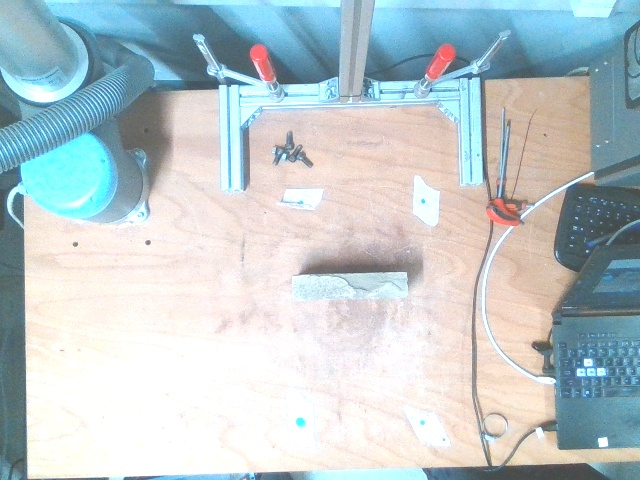brick-side: (293, 274, 407, 299)
